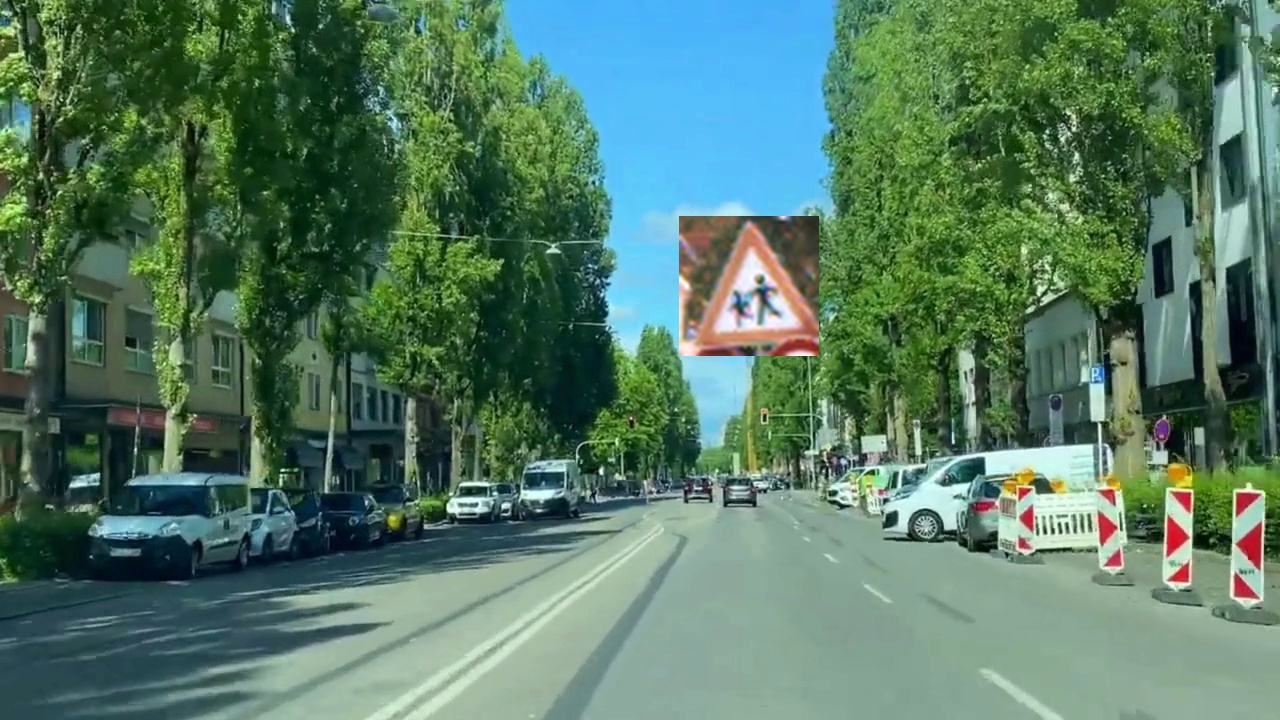Children: (679, 216, 819, 356)
